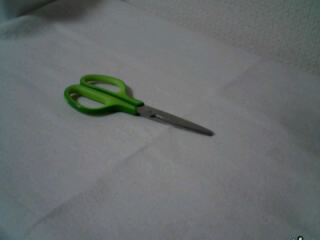003_classes: (63, 72, 218, 141)
